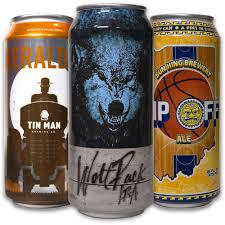beer: (3, 4, 224, 217)
